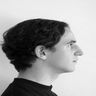ear: (32, 41, 51, 63)
